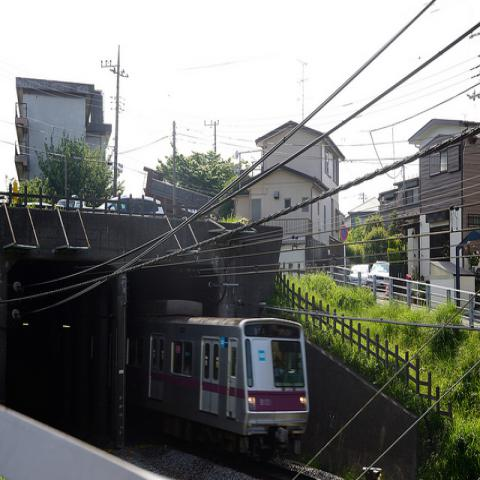car: (98, 194, 165, 215), (367, 262, 393, 288), (350, 265, 372, 285), (58, 200, 79, 208)
